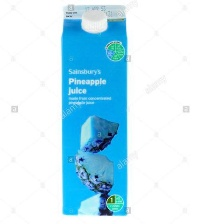carton: (60, 4, 130, 217)
